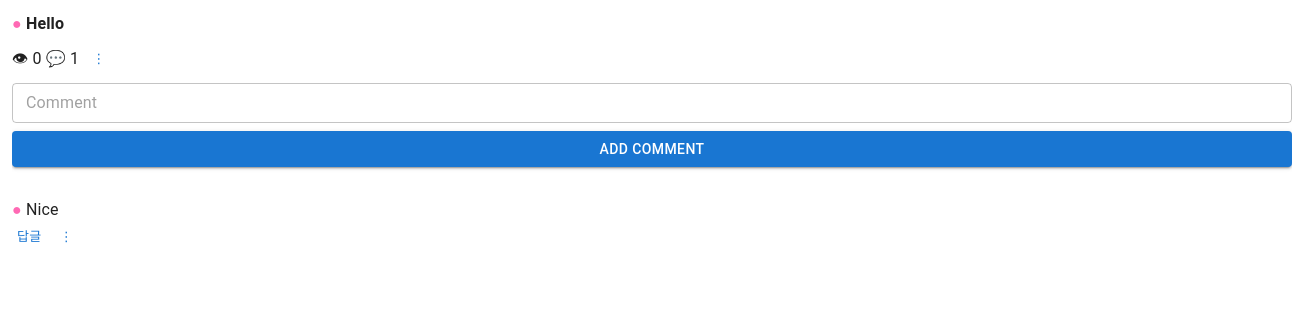
it: replies to a comment with parentCommentId
Expected: the text "● Nice" is shown, [12, 200, 59, 219]
Click the button "답글".
click(29, 238)  # box [12, 222, 47, 253]
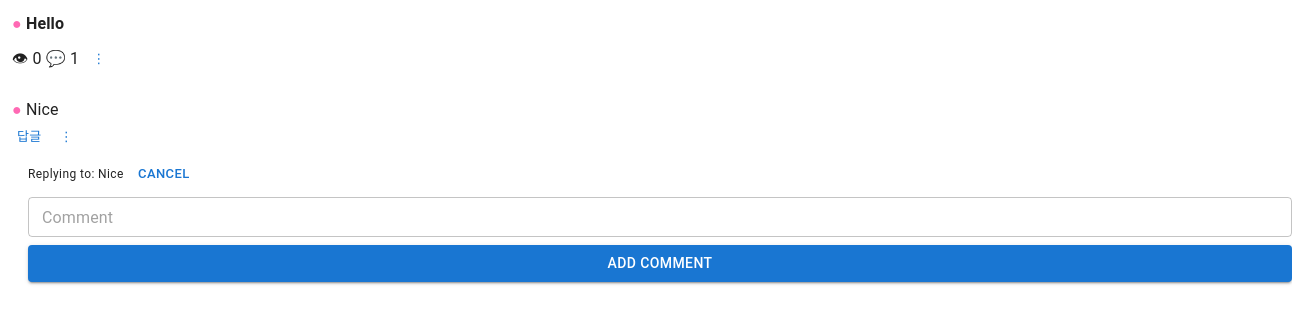
Type "Thanks" into the field with placeholder "Comment".
click(660, 217); type("Thanks")  # box [28, 197, 1292, 237]
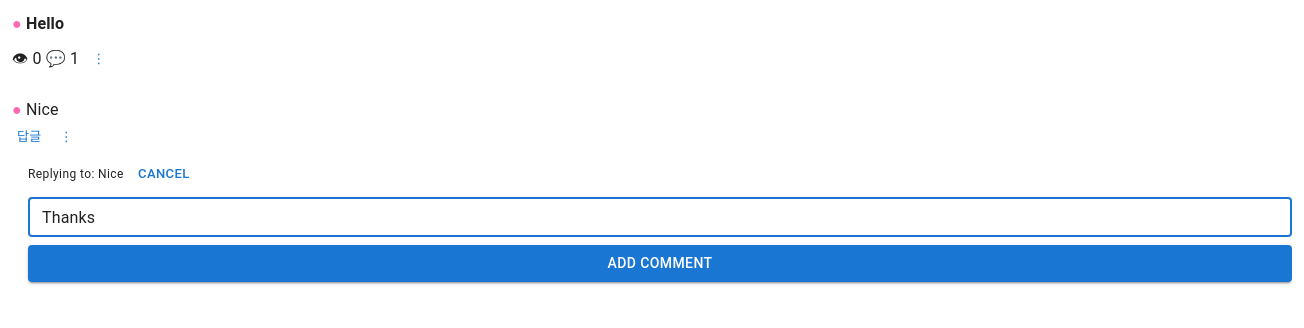
Click the button "Add Comment".
click(660, 264)  # box [28, 245, 1292, 282]
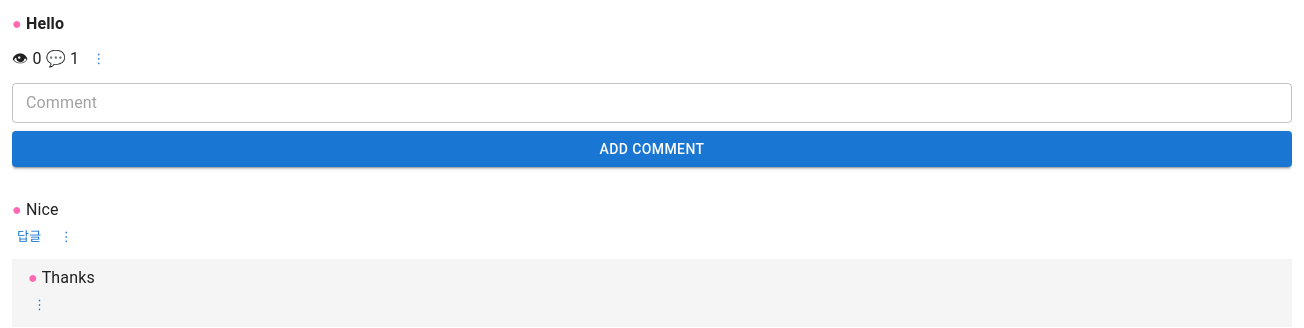
Expected: the text "● Thanks" is shown, [28, 268, 95, 287]
